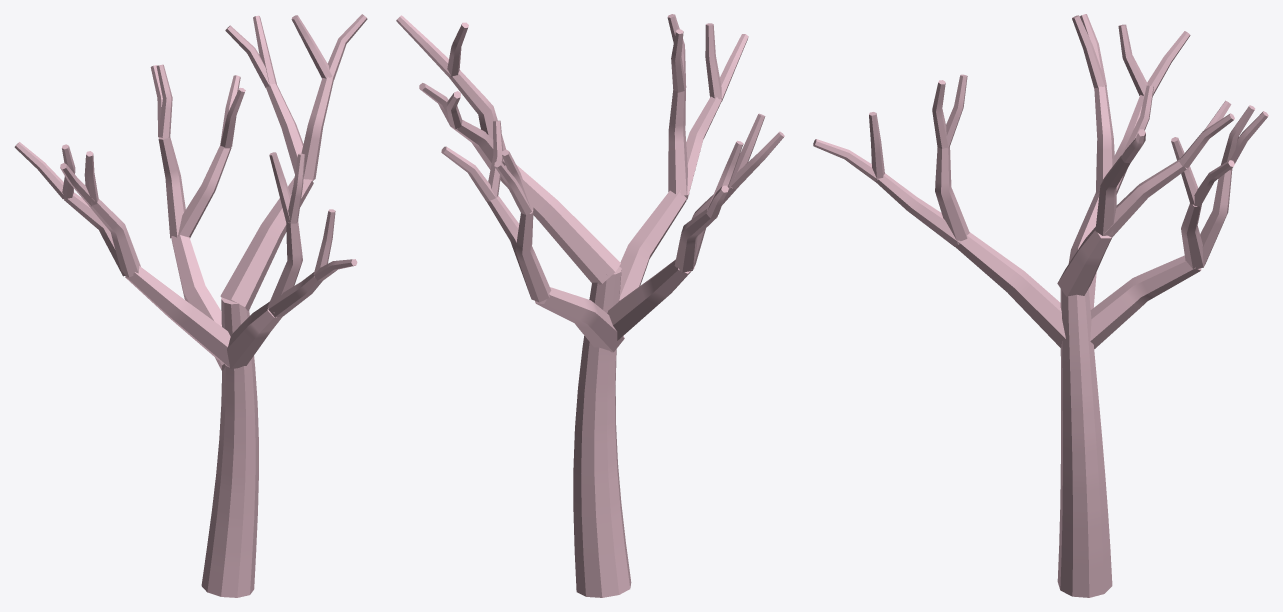
File: BareTree_Pink_A.fbx
3 views of the same model, side by side, from view 1: azimuth 30°, elevation 25°; view 2: azimuth 150°, elevation 25°; view 3: azimuth 270°, elevation 25° (orthographic). The views are drawn at different scales.
Parts seen in each view (by area): view 1: BareTree_Pink_A; view 2: BareTree_Pink_A; view 3: BareTree_Pink_A.
Boxes of the visible parts, bbox=[...] form: BareTree_Pink_A: bbox=[14, 14, 367, 597]; BareTree_Pink_A: bbox=[396, 14, 784, 597]; BareTree_Pink_A: bbox=[813, 14, 1268, 597].
Bounding box in the file's own units: 10.48 × 15.82 × 11.83.
